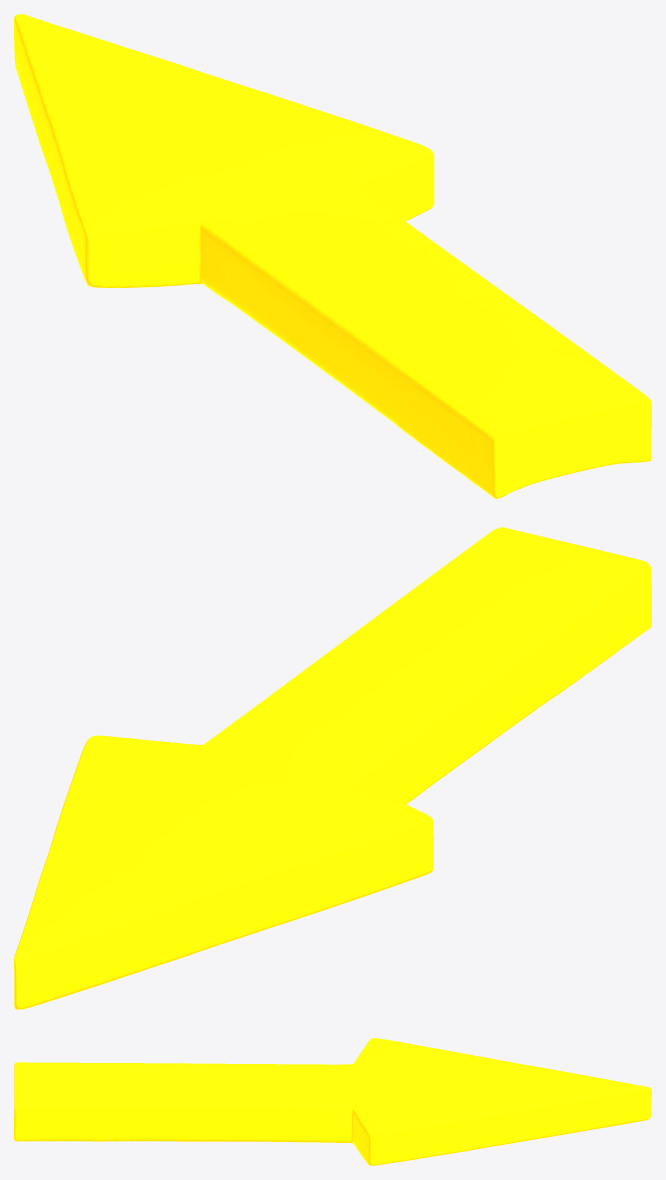
File: modelup.glb
3 renders of one model, top to bottom at view 1: azimuth 30°, elevation 25°; view 2: azimuth 150°, elevation 25°; view 3: azimuth 270°, elevation 25°, orthographic. The views are drawn at different scales.
Visible parts, largest first — view 1: Mesh_0.001; view 2: Mesh_0.001; view 3: Mesh_0.001.
Part boxes in pixels (<box>): Mesh_0.001: <box>14,14,651,498</box>; Mesh_0.001: <box>14,527,651,1009</box>; Mesh_0.001: <box>14,1038,651,1165</box>.
Bounding box in the file's own units: 0.7154 × 0.1386 × 2.
